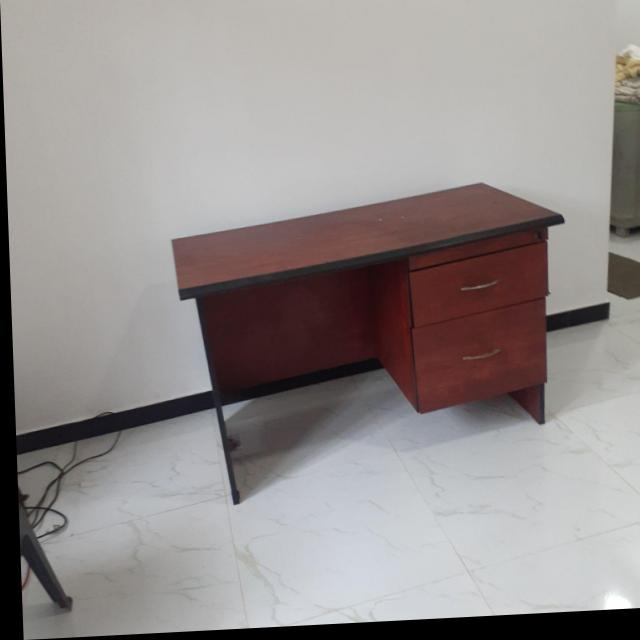Table: (150, 172, 586, 513)
